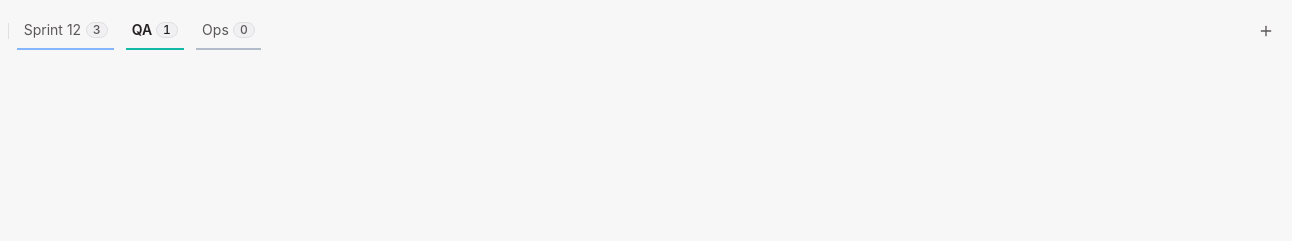
GroupTabStrip › group menu › right-click opens the menu without switching tabs
Right-click the button with aria-label "Sprint 12, 3 issues" at [65, 31], box [17, 12, 114, 50]
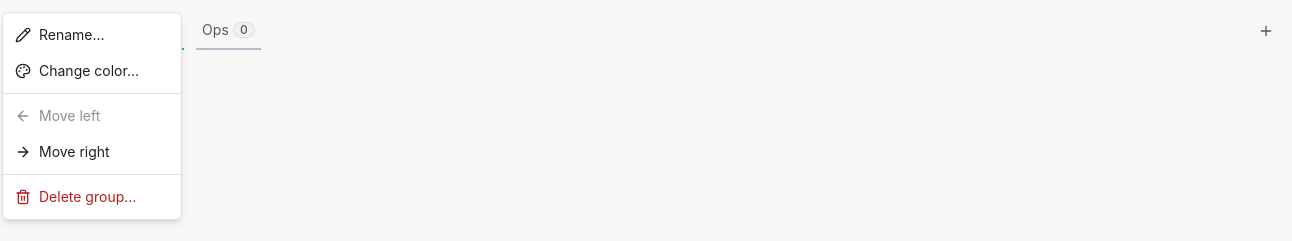
Expected: the menu is shown, [2, 12, 182, 220]
